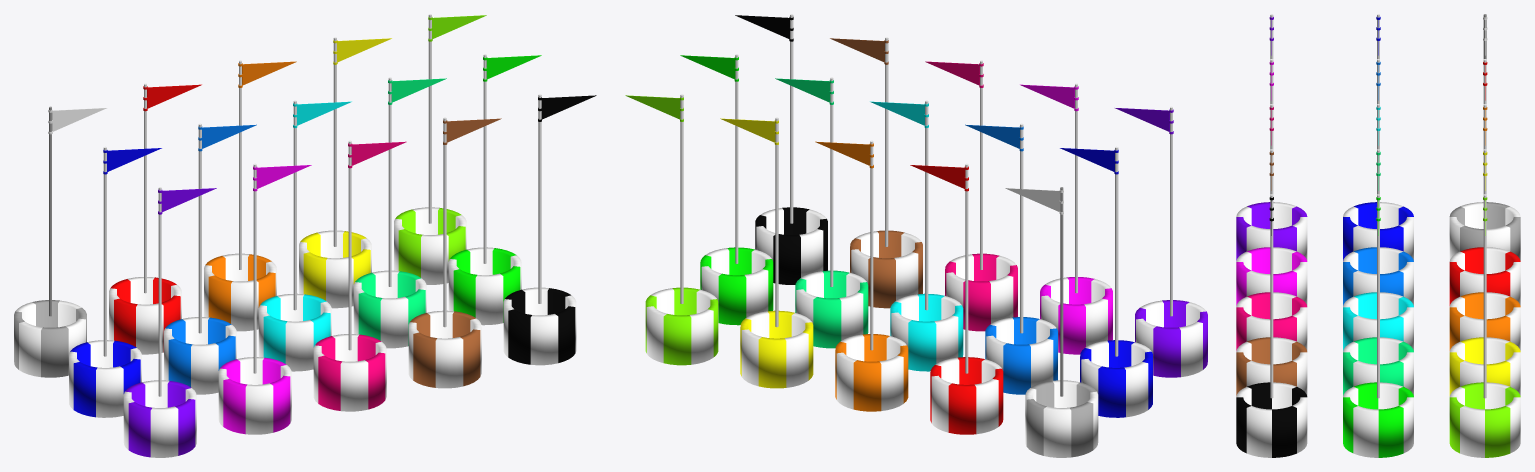
Rendered from Golf Flags & Holes.fbx.
3 renders of one model, left to right at view 1: azimuth 30°, elevation 25°; view 2: azimuth 150°, elevation 25°; view 3: azimuth 270°, elevation 25°, orthographic. The views are drawn at different scales.
Parts seen in each view (by area): view 1: Magenta 2 Hole, Purple Hole, Magenta 1 Hole, Brown Hole, Black Hole, White Hole, Blue 3 Hole, Green 3 Hole, Green 2 Hole, Blue 1 Hole, Blue 2 Hole, Orange Hole (+33 smaller); view 2: Orange Hole, White Hole, Red Hole, Yellow Hole, Green 1 Hole, Purple Hole, Blue 3 Hole, Green 3 Hole, Green 2 Hole, Blue 1 Hole, Blue 2 Hole, Magenta 2 Hole (+33 smaller); view 3: Green 1 Hole, Black Hole, Green 2 Hole, Red Hole, Magenta 1 Hole, Yellow Hole, Brown Hole, Orange Hole, Magenta 2 Hole, White Hole, Purple Hole, Blue 2 Hole (+6 smaller).
Boxes of the visible parts, box(x1,y1,x2,y2) form: Magenta 2 Hole: box(313, 334, 386, 411); Purple Hole: box(123, 380, 196, 457); Magenta 1 Hole: box(218, 357, 291, 434); Brown Hole: box(408, 310, 481, 388); Black Hole: box(503, 287, 576, 365); White Hole: box(14, 300, 86, 377); Blue 3 Hole: box(69, 340, 141, 417); Green 3 Hole: box(353, 270, 426, 348); Green 2 Hole: box(448, 247, 521, 325); Blue 1 Hole: box(258, 293, 331, 371); Blue 2 Hole: box(164, 317, 236, 394); Orange Hole: box(204, 253, 276, 331); Orange Hole: box(835, 334, 908, 411); White Hole: box(1025, 380, 1098, 457); Red Hole: box(930, 357, 1003, 434); Yellow Hole: box(740, 310, 813, 388); Green 1 Hole: box(645, 287, 718, 365); Purple Hole: box(1135, 300, 1207, 377); Blue 3 Hole: box(1080, 340, 1152, 417); Green 3 Hole: box(795, 270, 868, 348); Green 2 Hole: box(700, 247, 773, 325); Blue 1 Hole: box(890, 293, 963, 371); Blue 2 Hole: box(985, 317, 1057, 394); Magenta 2 Hole: box(945, 253, 1017, 331); Green 1 Hole: box(1449, 382, 1520, 457); Black Hole: box(1236, 382, 1307, 457); Green 2 Hole: box(1343, 382, 1413, 457); Red Hole: box(1449, 247, 1520, 305); Magenta 1 Hole: box(1236, 247, 1307, 305); Yellow Hole: box(1449, 337, 1520, 395); Brown Hole: box(1236, 337, 1307, 395); Orange Hole: box(1449, 292, 1520, 350); Magenta 2 Hole: box(1236, 292, 1307, 350); White Hole: box(1449, 202, 1520, 260); Purple Hole: box(1236, 202, 1307, 260); Blue 2 Hole: box(1343, 247, 1413, 305).
Bounding box in the file's own units: 1479 × 770 × 800.
